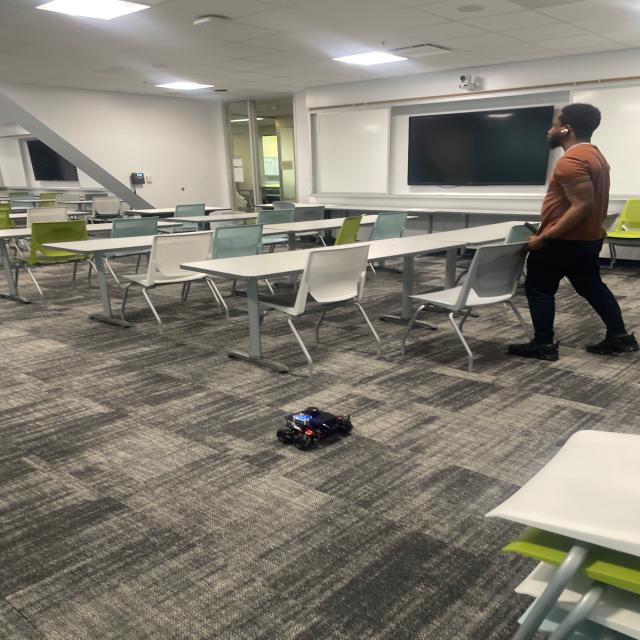ArduinoCar3: (275, 405, 355, 448)
